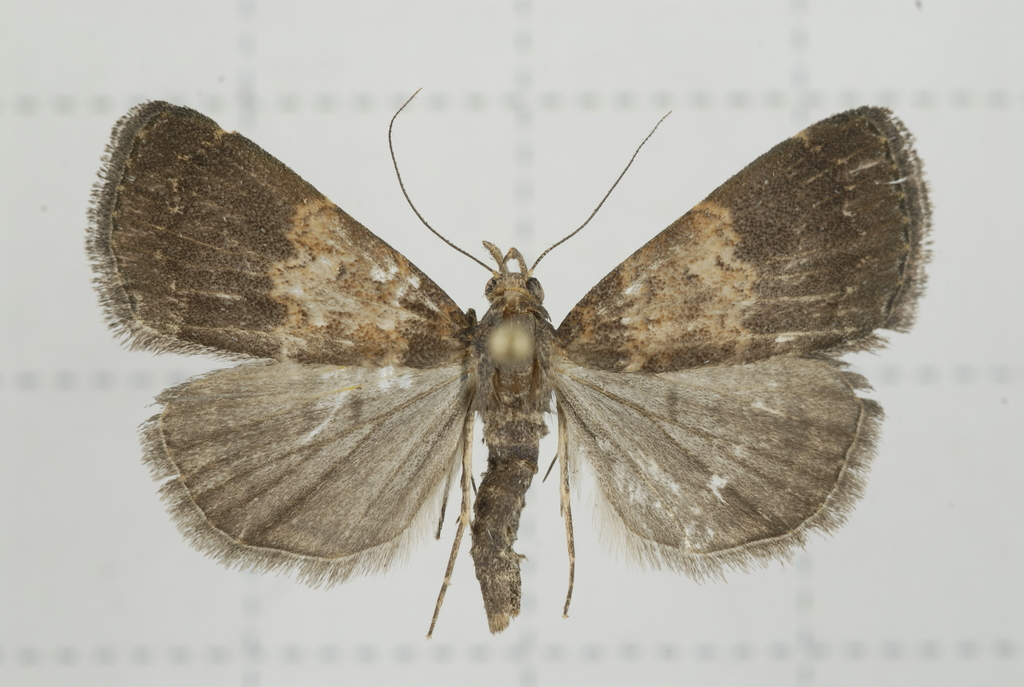Butterfly: (89, 86, 931, 648)
